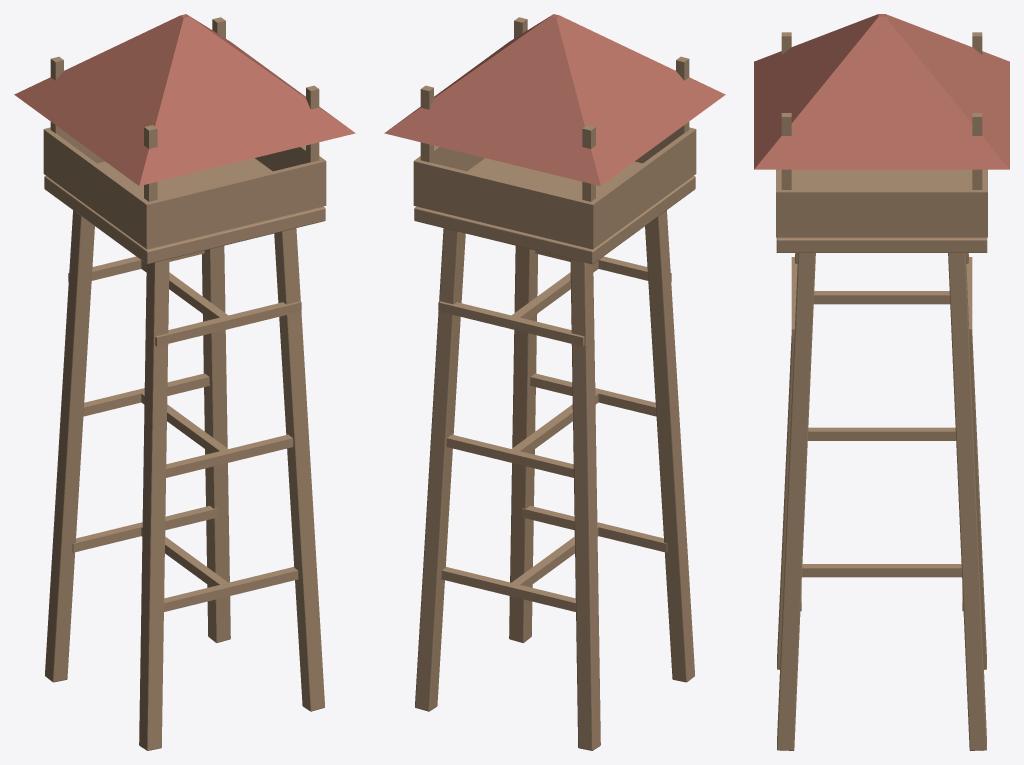
Rendered from watchtower.glb.
3 views of the same model, side by side, from view 1: azimuth 30°, elevation 25°; view 2: azimuth 150°, elevation 25°; view 3: azimuth 270°, elevation 25° (orthographic). The views are drawn at different scales.
Visible parts, largest first — view 1: Cone, leg, leg.001, leg.002, rail, leg.003, deck, rail.001, brace.009, brace.001, brace.005, brace (+6 smaller); view 2: Cone, leg.001, leg, leg.003, rail.002, leg.002, deck, rail.001, brace.008, brace, brace.004, brace.001 (+6 smaller); view 3: Cone, rail.003, leg.002, leg.003, deck, brace.002, brace.006, brace.010, leg, leg.001, rpost.002, rpost.003.
Part boxes in pixels (box(x1,y1,x2,y2)): Cone: box(14, 14, 355, 185); leg: box(139, 259, 169, 750); leg.001: box(45, 210, 94, 682); leg.002: box(274, 228, 324, 711); rail: box(145, 159, 326, 249); leg.003: box(202, 246, 230, 642); deck: box(44, 158, 325, 264); rail.001: box(43, 128, 148, 249); brace.009: box(155, 301, 301, 346); brace.001: box(164, 567, 298, 611); brace.005: box(166, 434, 293, 477); brace: box(72, 506, 217, 552); Cone: box(384, 14, 725, 185); leg.001: box(570, 259, 600, 750); leg: box(645, 210, 694, 682); leg.003: box(415, 228, 465, 711); rail.002: box(413, 159, 593, 249); leg.002: box(509, 246, 537, 642); deck: box(414, 158, 695, 264); rail.001: box(588, 128, 696, 249); brace.008: box(438, 301, 584, 346); brace: box(441, 567, 575, 611); brace.004: box(446, 434, 573, 477); brace.001: box(522, 506, 667, 552); Cone: box(754, 14, 1009, 169); rail.003: box(776, 189, 987, 237); leg.002: box(777, 253, 815, 750); leg.003: box(948, 253, 986, 750); deck: box(776, 169, 987, 252); brace.002: box(802, 564, 961, 577); brace.006: box(807, 427, 956, 440); brace.010: box(813, 291, 950, 304); leg: box(777, 253, 797, 669); leg.001: box(966, 253, 986, 669); rpost.002: box(781, 113, 791, 189); rpost.003: box(972, 113, 982, 189).
Bounding box in the file's own units: 5.09 × 15.2 × 5.09.
